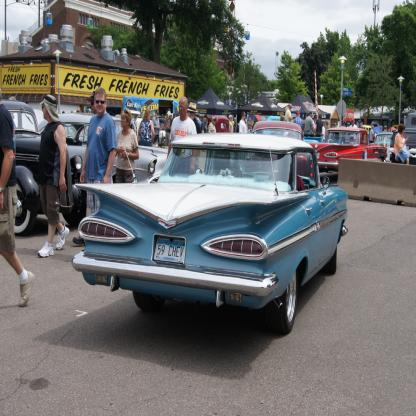Car: (71, 130, 350, 333), (1, 98, 88, 237), (39, 114, 174, 183), (317, 122, 389, 170), (245, 119, 305, 175)
